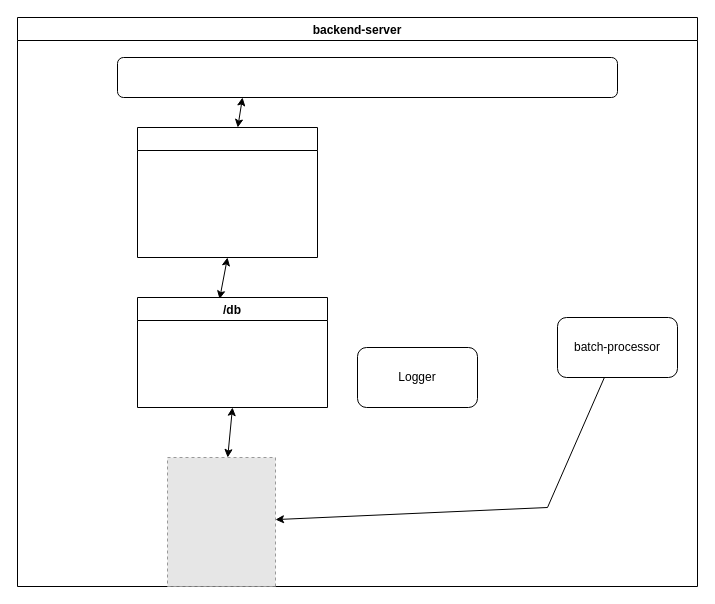
The diagram is 715 pixels wide and 604 high, and some of its shapes have lost their labels. Grey dashed boxes stand in for pictures. Here are the shapes that lost their labels. From the top down, the box of each, then its label:
(116, 56, 618, 98): app.js
(136, 126, 318, 258): /route
